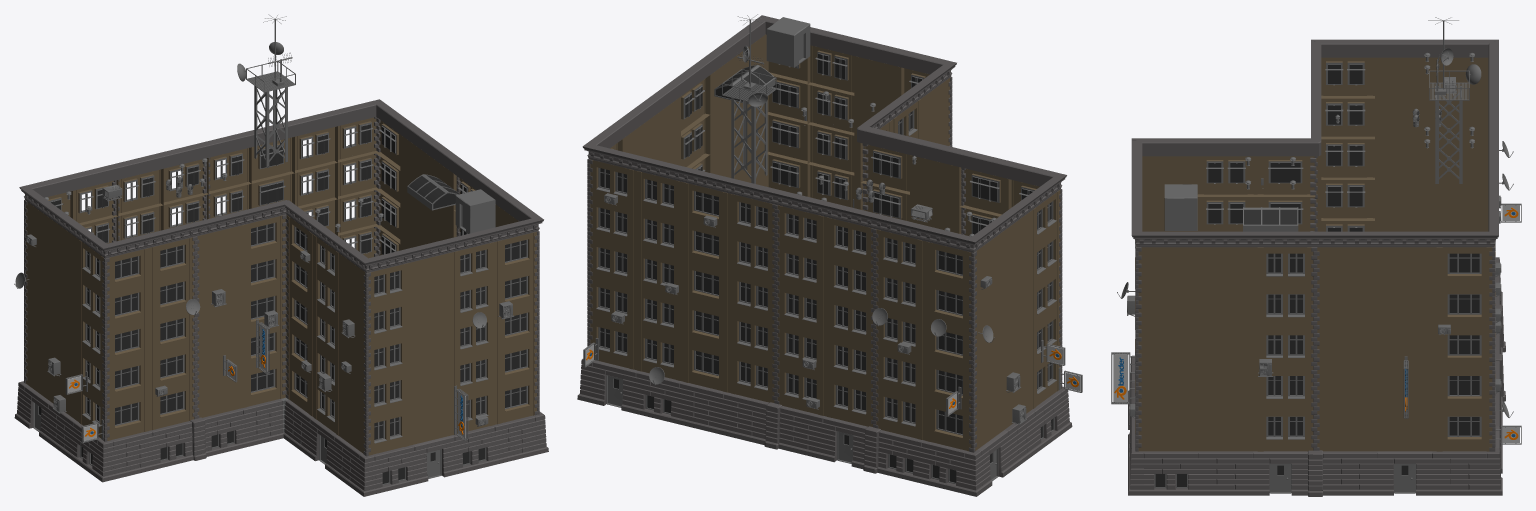
File: buildify_1.0 hedetest bygning2.fbx
3 views of the same model, side by side, from view 1: azimuth 30°, elevation 25°; view 2: azimuth 150°, elevation 25°; view 3: azimuth 270°, elevation 25° (orthographic). The views are drawn at different scales.
Visible parts, largest first — view 1: antenna_big.003, ground_floor_wall_02.024, ground_floor_wall_03.016, ground_floor_wall_02.020, middle_floor_wall_03.124, ground_floor_wall_02.021, middle_floor_wall_01.213, middle_floor_wall_02.217, middle_floor_wall_01.216, middle_floor_wall_01.217, middle_floor_wall_01.214, middle_floor_wall_01.215 (+119 smaller); view 2: antenna_big.003, middle_floor_wall_01.207, ground_floor_wall_02.026, middle_floor_wall_02.197, middle_floor_wall_02.194, middle_floor_wall_02.189, middle_floor_wall_02.187, middle_floor_wall_02.191, middle_floor_wall_02.236, middle_floor_wall_02.193, ground_floor_wall_03.012, middle_floor_wall_03.140 (+112 smaller); view 3: antenna_big.003, middle_floor_wall_01.191, middle_floor_wall_01.219, middle_floor_wall_01.227, ground_floor_wall_02.025, middle_floor_wall_01.183, middle_floor_wall_01.202, ground_floor_wall_01.010, ground_floor_wall_02.016, ground_floor_wall_02.017, ground_floor_wall_03.018, middle_floor_wall_01.189 (+65 smaller).
Boxes of the visible parts, box(x1,y1,x2,y2) form: antenna_big.003: box(237, 14, 295, 166); ground_floor_wall_02.024: box(493, 415, 536, 464); ground_floor_wall_03.016: box(373, 445, 416, 493); ground_floor_wall_02.020: box(111, 430, 154, 479); middle_floor_wall_03.124: box(150, 237, 194, 283); ground_floor_wall_02.021: box(241, 399, 283, 447); middle_floor_wall_01.213: box(409, 398, 452, 445); middle_floor_wall_02.217: box(452, 242, 495, 288); middle_floor_wall_01.216: box(409, 289, 452, 335); middle_floor_wall_01.217: box(409, 252, 452, 299); middle_floor_wall_01.214: box(409, 362, 452, 408); middle_floor_wall_01.215: box(409, 325, 452, 372); antenna_big.003: box(722, 14, 776, 183); middle_floor_wall_01.207: box(910, 155, 961, 206); ground_floor_wall_02.026: box(678, 381, 725, 434); middle_floor_wall_02.197: box(876, 229, 924, 280); middle_floor_wall_02.194: box(876, 349, 924, 400); middle_floor_wall_02.189: box(777, 245, 825, 296); middle_floor_wall_02.187: box(777, 285, 825, 336); middle_floor_wall_02.191: box(777, 205, 825, 256); middle_floor_wall_02.236: box(635, 170, 682, 221); middle_floor_wall_02.193: box(876, 389, 924, 440); ground_floor_wall_03.012: box(920, 440, 966, 493); middle_floor_wall_03.140: box(682, 341, 729, 392); antenna_big.003: box(1428, 17, 1481, 183); middle_floor_wall_01.191: box(1375, 247, 1434, 288); middle_floor_wall_01.219: box(1196, 410, 1255, 451); middle_floor_wall_01.227: box(1196, 247, 1255, 288); ground_floor_wall_02.025: box(1198, 451, 1253, 495); middle_floor_wall_01.183: box(1375, 410, 1434, 451); middle_floor_wall_01.202: box(1375, 57, 1434, 98); ground_floor_wall_01.010: box(1377, 451, 1432, 495); ground_floor_wall_02.016: box(1432, 451, 1486, 495); ground_floor_wall_02.017: box(1323, 451, 1377, 495); ground_floor_wall_03.018: box(1144, 451, 1198, 495); middle_floor_wall_01.189: box(1375, 288, 1434, 328).
Bounding box in the file's own units: 3379 × 2968 × 2734.
